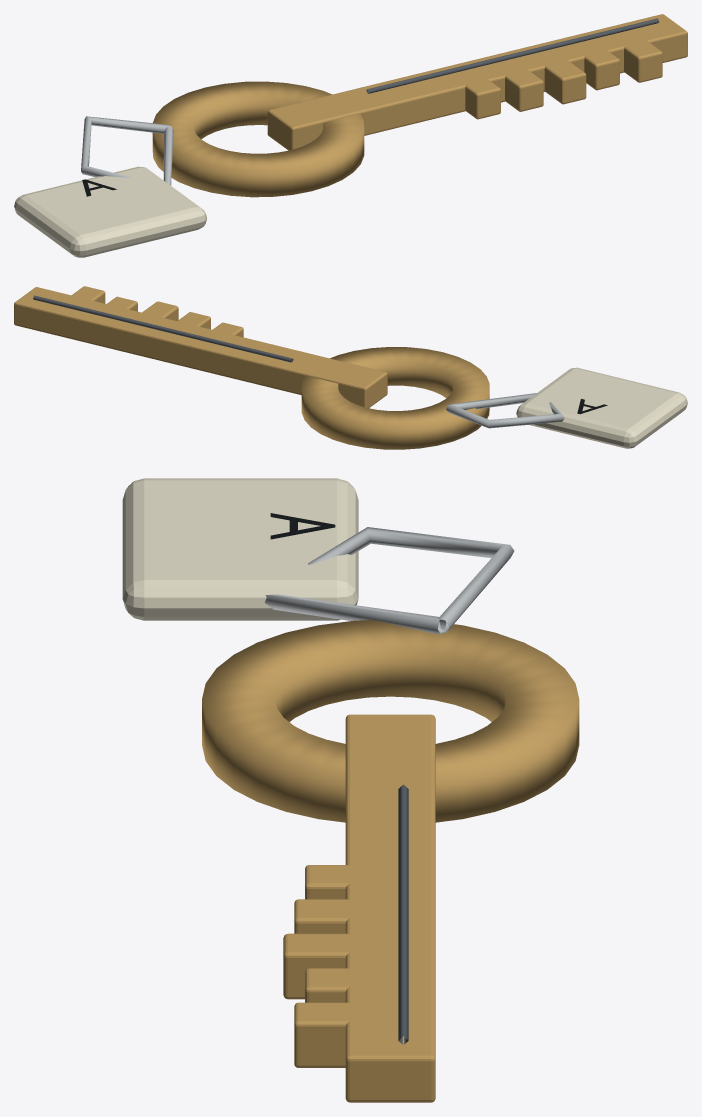
File: key.glb
3 renders of one model, top to bottom at view 1: azimuth 30°, elevation 25°; view 2: azimuth 150°, elevation 25°; view 3: azimuth 270°, elevation 25°, orthographic. The views are drawn at different scales.
Visible parts, largest first — view 1: key; view 2: key; view 3: key.
Boxes of the visible parts, left/top/right/bottom form: key: left=14, top=14, right=687, bottom=257; key: left=14, top=286, right=687, bottom=449; key: left=122, top=478, right=579, bottom=1102.
Size of the model in its own units: 0.3235 by 0.0207 by 0.1065.
